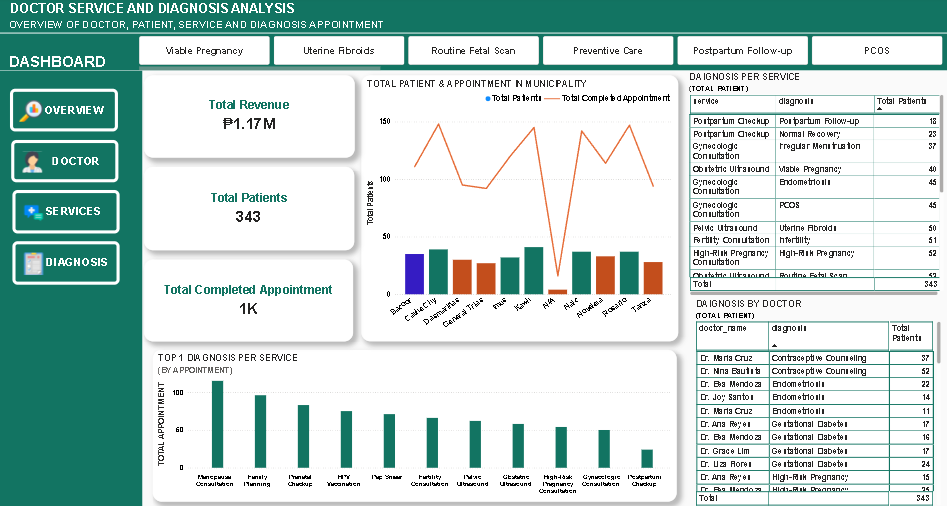

This screenshot's page, from the dashboard's own definition file:
{"tool":"powerbi","page":{"name":"DIAGNOSIS","canvas":[2000,1080],"ordinal":3},"visuals":[{"type":"group","id":"g1","title":"Group 3","box":[0,0,3093.8,1080.8],"z":0},{"type":"shape","box":[0,0,303,1080.8],"z":0,"group":"g1"},{"type":"cardVisual","fields":{"Data":["Appointment_clean_data.Total Revenue"]},"box":[307.1,168.3,443.9,173.4],"z":0,"group":"g2"},{"type":"shape","box":[0,0,3093.8,157.5],"z":1000,"group":"g1"},{"type":"textbox","box":[16.2,117.1,226.2,66.6],"z":1000},{"type":"cardVisual","fields":{"Data":["Appointment_clean_data.Total Patients"]},"box":[307.1,361.1,443.8,176.1],"z":1000,"group":"g2"},{"type":"tableEx","title":"DAIGNOSIS PER SERVICE","fields":{"Values":["Appointment_clean_data.service","Appointment_clean_data.diagnosis","Appointment_clean_data.Total Patients"]},"box":[1453.1,159.9,546.9,477.5],"z":2000},{"type":"cardVisual","fields":{"Data":["Appointment_clean_data.Total Completed transaction"]},"box":[307.1,557.1,441.4,172.8],"z":2000,"group":"g2"},{"type":"actionButton","box":[24.2,195,228.2,90],"z":3000,"group":"g1"},{"type":"tableEx","title":"DAIGNOSIS BY DOCTOR","fields":{"Values":["Doctor_clean_data.doctor_name","Appointment_clean_data.diagnosis","Appointment_clean_data.Total Patients"]},"box":[1464.1,637.4,528,441.7],"z":3000},{"type":"clusteredColumnChart","title":"TOP 1 DIAGNOSIS PER SERVICE","fields":{"Category":["Appointment_clean_data.service"],"Y":["Appointment_clean_data.Total Completed transaction"],"Series":["Appointment_clean_data.diagnosis"]},"box":[315.7,757.1,1116.6,321.5],"z":4000},{"type":"lineClusteredColumnComboChart","title":"TOTAL PATIENT & APPOINTMENT IN MUNICIPALITY","fields":{"Category":["Patient_clean_data.city_municipality"],"Y":["Appointment_clean_data.Total Patients"],"Y2":["Appointment_clean_data.Total Completed transaction"]},"box":[763.6,168.3,668.9,561.6],"z":5000},{"type":"actionButton","box":[24.9,303.2,226.1,89.4],"z":5000,"group":"g1"},{"type":"group","id":"g2","title":"Group 1","box":[307.1,168.3,443.9,561.7],"z":6000},{"type":"advancedSlicerVisual","title":"DOCTOR NAMES","fields":{"Values":["Appointment_clean_data.diagnosis"]},"box":[290.3,79.9,1710.2,84.1],"z":7000},{"type":"actionButton","box":[27.3,410.1,226.1,91.9],"z":11000,"group":"g1"},{"type":"actionButton","box":[27.3,516.9,226.1,91.9],"z":12000,"group":"g1"},{"type":"textbox","box":[17.4,5,653.6,44.7],"z":13000,"group":"g1"},{"type":"shape","box":[0,69.6,2000.6,17.4],"z":14000,"group":"g1"},{"type":"textbox","box":[16.2,44.4,817.9,42.4],"z":15000,"group":"g1"}]}

Visuals, with their boxes in screenshot pixels (x1, y1, x2, y2), scaled from the page's 2000x1080 canvas onto the 947x506 screenshot:
"Group 3" group: BBox(0, 0, 946, 505)
shape: BBox(0, 0, 143, 505)
cardVisual - Appointment_clean_data.Total Revenue: BBox(145, 79, 356, 160)
shape: BBox(0, 0, 946, 74)
textbox: BBox(8, 55, 115, 86)
cardVisual - Appointment_clean_data.Total Patients: BBox(145, 169, 356, 252)
"DAIGNOSIS PER SERVICE" tableEx: BBox(688, 75, 946, 299)
cardVisual - Appointment_clean_data.Total Completed transaction: BBox(145, 261, 354, 342)
actionButton: BBox(11, 91, 120, 134)
"DAIGNOSIS BY DOCTOR" tableEx: BBox(693, 299, 943, 505)
"TOP 1 DIAGNOSIS PER SERVICE" clusteredColumnChart: BBox(149, 355, 678, 505)
"TOTAL PATIENT & APPOINTMENT IN MUNICIPALITY" lineClusteredColumnComboChart: BBox(362, 79, 678, 342)
actionButton: BBox(12, 142, 119, 184)
"Group 1" group: BBox(145, 79, 356, 342)
"DOCTOR NAMES" advancedSlicerVisual: BBox(137, 37, 946, 77)
actionButton: BBox(13, 192, 120, 235)
actionButton: BBox(13, 242, 120, 285)
textbox: BBox(8, 2, 318, 23)
shape: BBox(0, 33, 946, 41)
textbox: BBox(8, 21, 395, 41)
